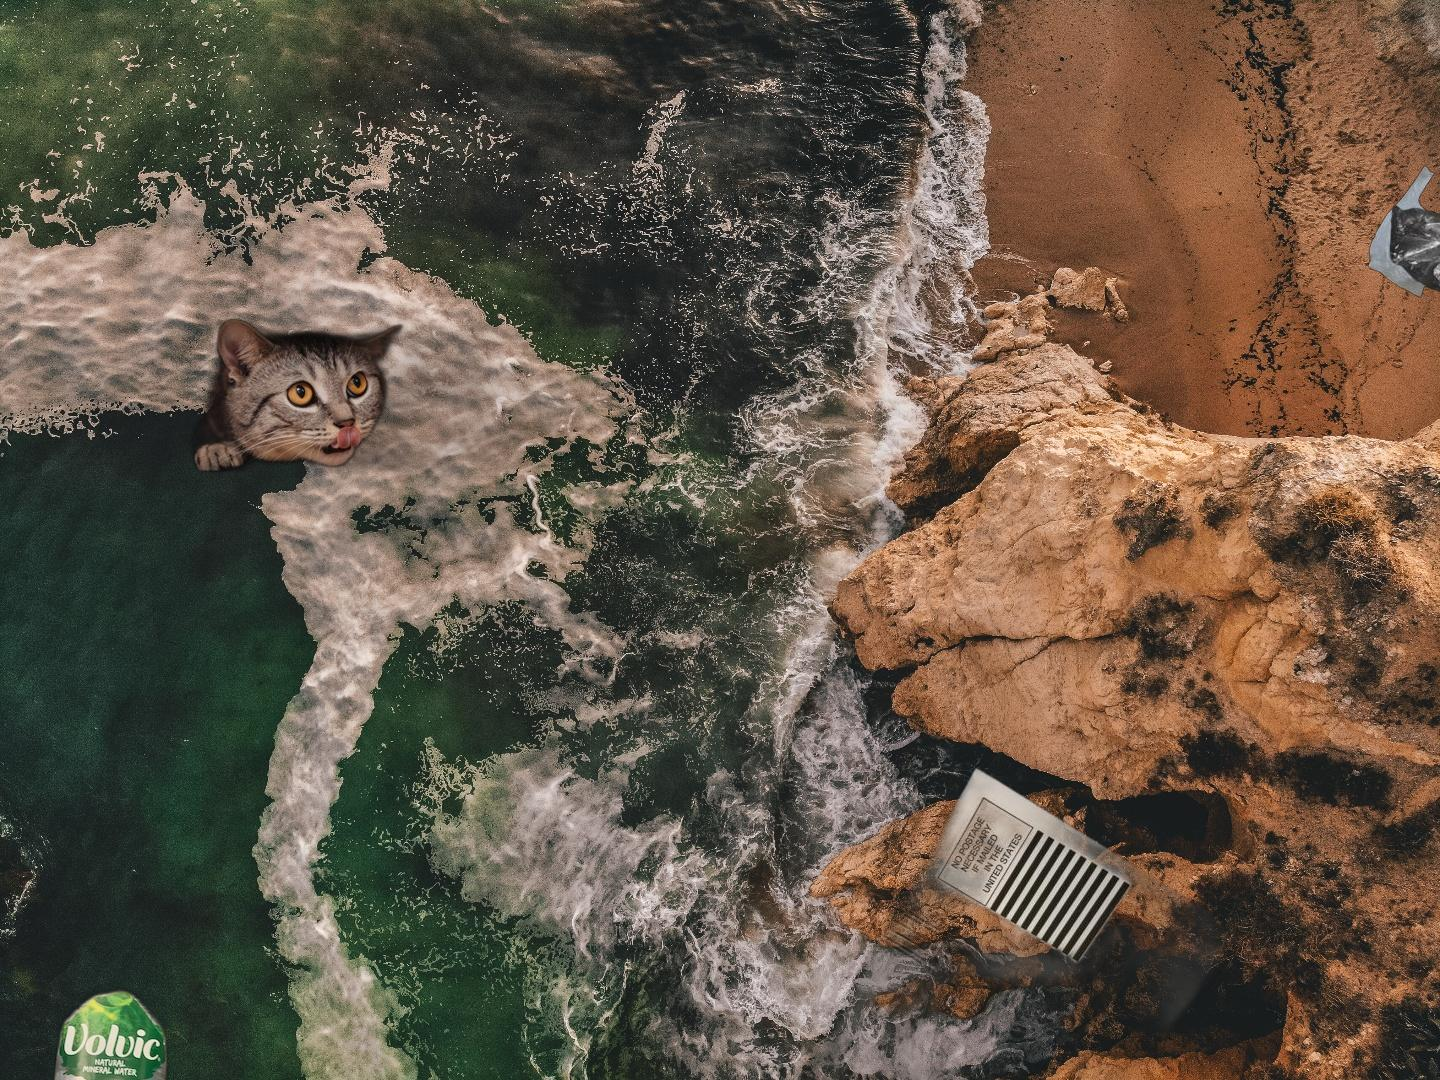paper: (772, 763, 1244, 1080)
plastic-bag: (1366, 163, 1440, 304)
plastic-bottles: (33, 984, 173, 1080)
trashbox-cardboard: (184, 317, 619, 479)
